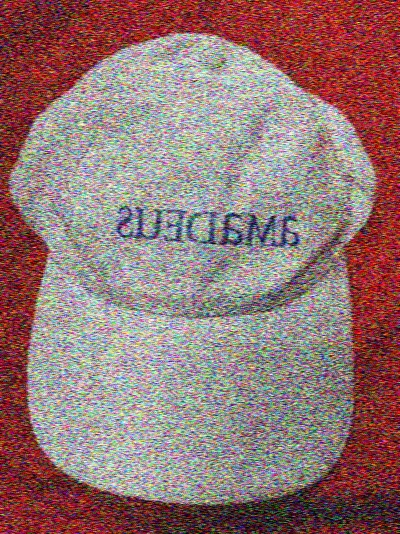Hat: (5, 12, 378, 503)
